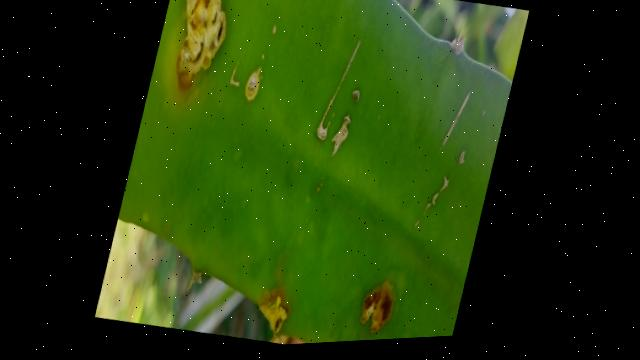stemcanker: (243, 65, 264, 105)
